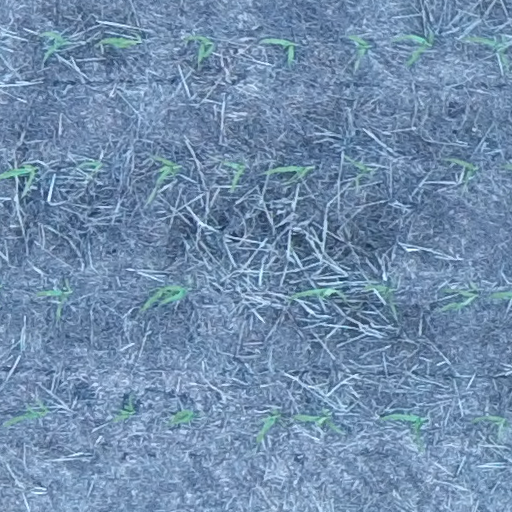planta: (379, 413, 426, 451), (35, 279, 72, 319), (148, 157, 180, 201), (464, 36, 508, 67), (139, 284, 189, 311), (395, 33, 434, 66), (292, 409, 341, 433), (4, 401, 48, 427), (342, 153, 374, 186), (441, 283, 478, 311), (263, 165, 313, 184), (288, 286, 347, 302), (183, 34, 213, 65), (364, 283, 395, 313), (262, 37, 295, 64), (255, 409, 282, 442), (446, 158, 478, 184), (471, 415, 509, 436), (348, 34, 369, 71), (221, 160, 245, 191), (42, 30, 68, 58), (97, 34, 140, 48), (112, 398, 135, 422), (168, 409, 196, 425), (79, 160, 103, 174)
